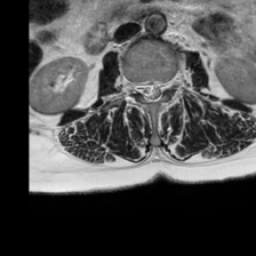CCS_normal: (147, 71, 155, 110)
LFS_normal: (163, 69, 173, 97)
LLS_normal: (155, 71, 163, 108)
RFS_normal: (129, 71, 138, 100)
RLS_normal: (138, 72, 147, 105)
